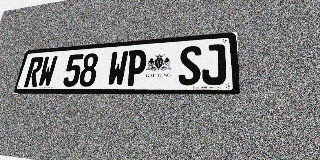5: (62, 54, 84, 87)
8: (78, 53, 100, 87)
J: (202, 44, 226, 85)
P: (125, 49, 147, 86)
R: (23, 57, 44, 87)
S: (178, 45, 201, 85)
W: (106, 51, 129, 86), (37, 56, 58, 87)
